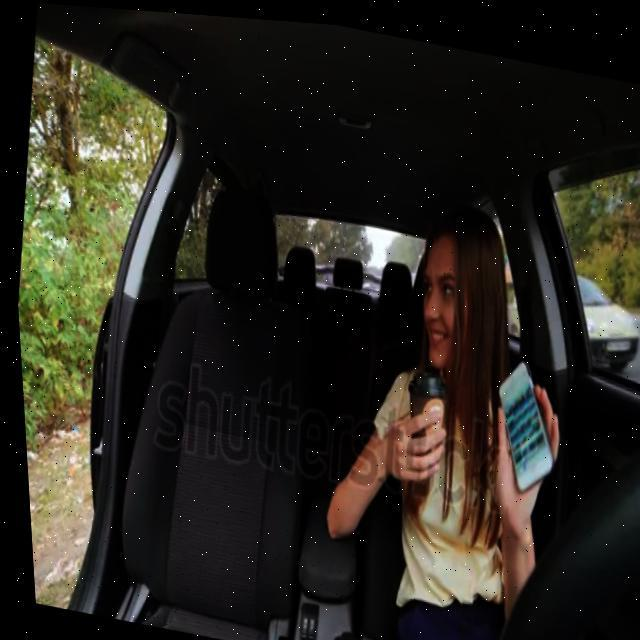Drinking: (392, 358, 446, 470)
PhoneCall: (478, 349, 560, 491)
